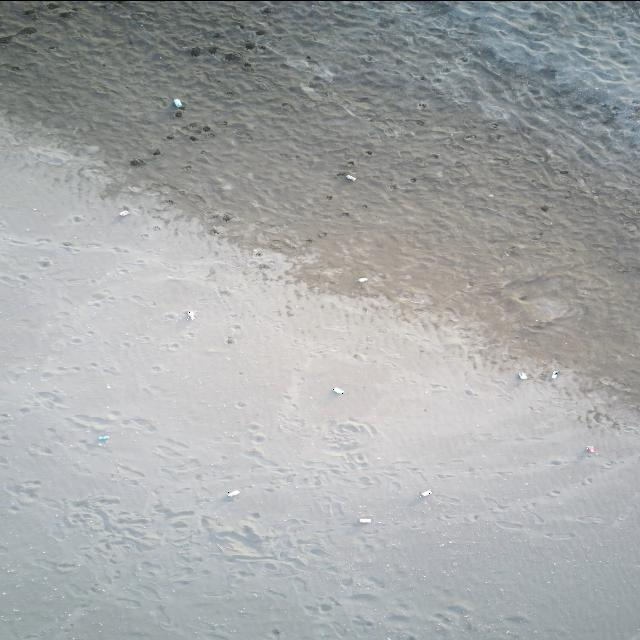Garbage: (129, 158, 144, 166), (96, 433, 108, 442), (584, 444, 595, 453), (516, 371, 527, 379), (227, 489, 239, 496), (172, 98, 180, 108), (190, 47, 200, 55), (344, 173, 355, 180), (359, 517, 371, 523), (184, 311, 193, 319), (332, 387, 343, 393), (551, 369, 559, 377), (119, 208, 128, 215), (420, 489, 430, 495), (151, 148, 160, 154), (175, 108, 181, 116), (357, 276, 367, 280)
